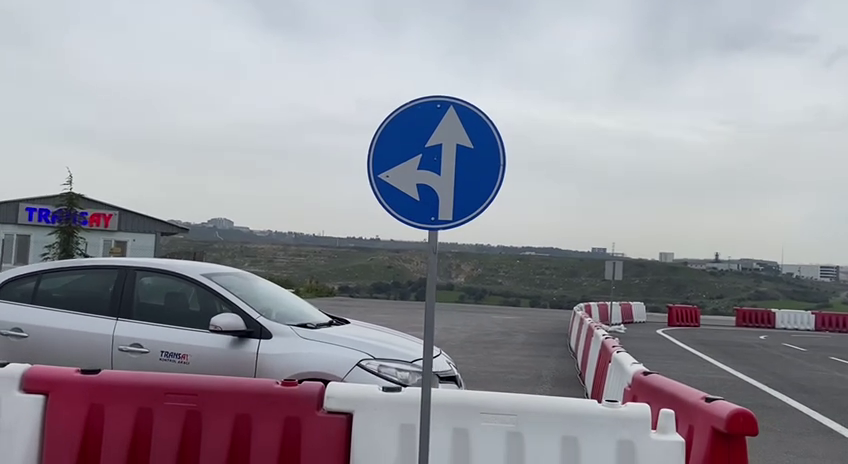forwardAndLeft: (363, 91, 515, 236)
